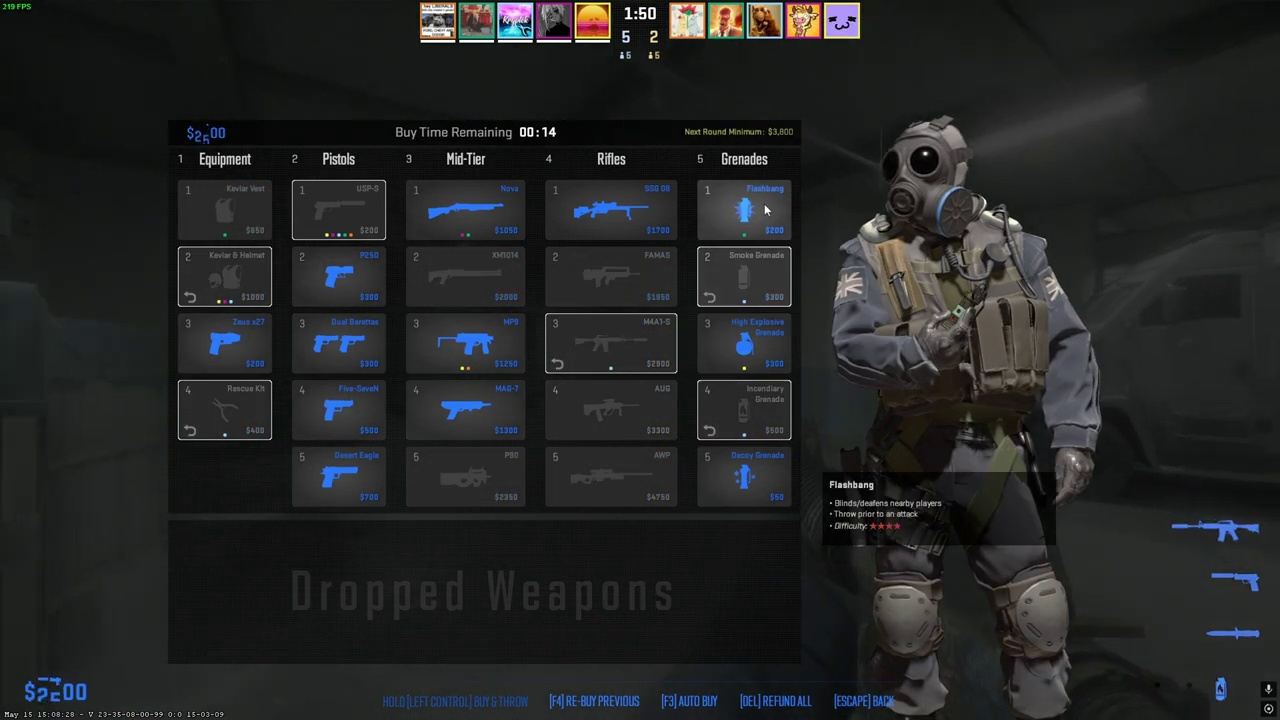CT: (855, 122, 1078, 720)
